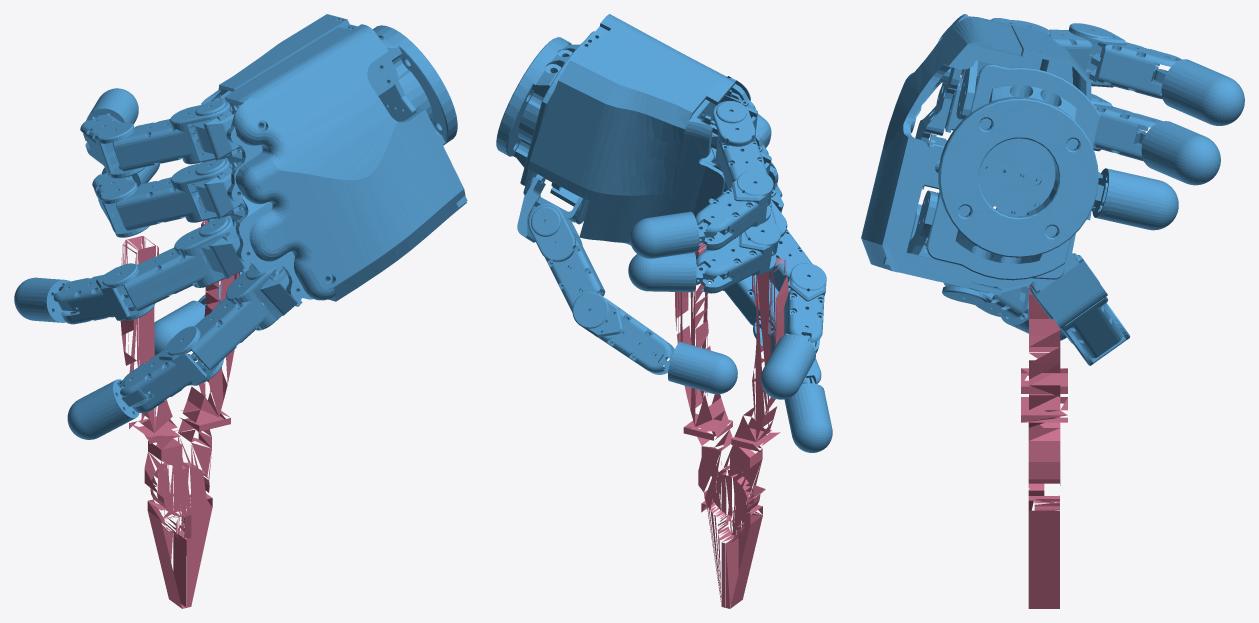
3 views of the same model, side by side, from view 1: azimuth 30°, elevation 25°; view 2: azimuth 150°, elevation 25°; view 3: azimuth 270°, elevation 25° (orthographic). The views are drawn at different scales.
Visible parts, largest first — view 1: 0; view 2: 0; view 3: 0.
Boxes of the visible parts, bbox=[...] form: 0: bbox=[14, 14, 467, 608]; 0: bbox=[496, 14, 832, 608]; 0: bbox=[861, 14, 1244, 608].
Bounding box in the file's own units: 0.1928 × 0.2852 × 0.1511.
